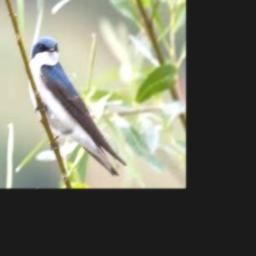Swallow: (28, 36, 127, 177)
